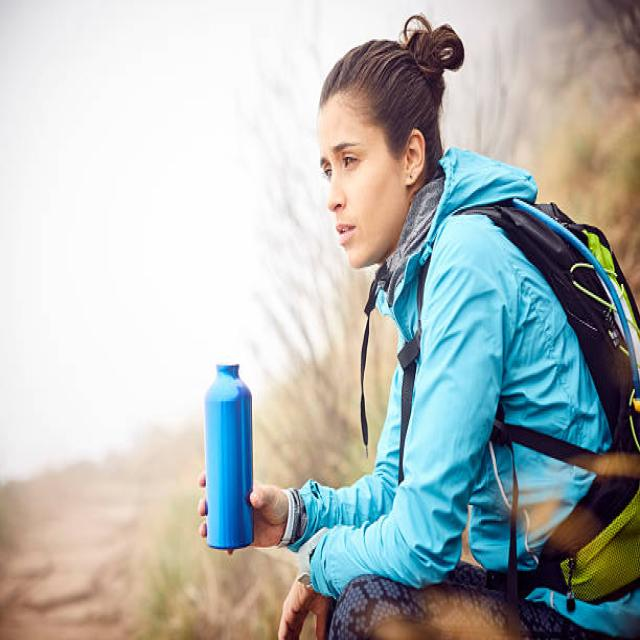blue_bottle: (203, 354, 257, 557)
